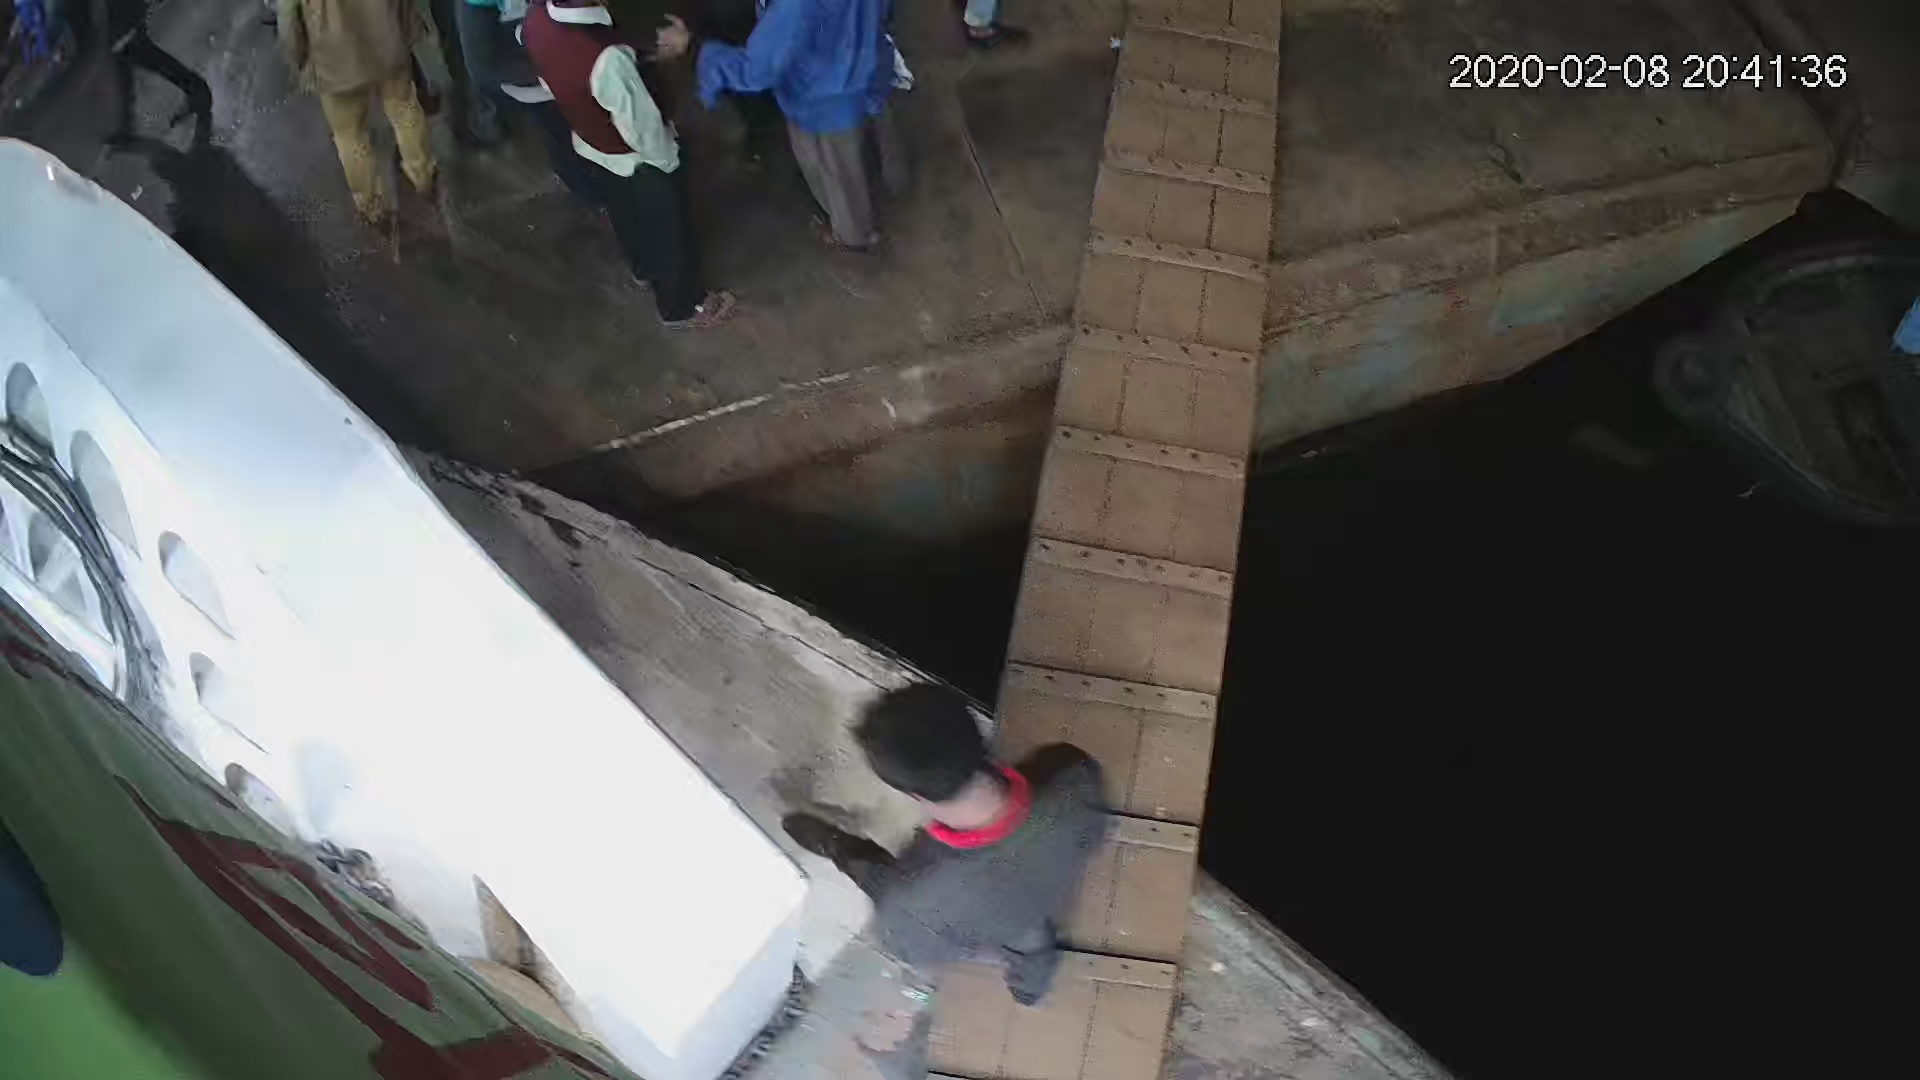person: (788, 659, 1119, 1018), (533, 1, 746, 340), (744, 1, 915, 266), (278, 1, 454, 230)
